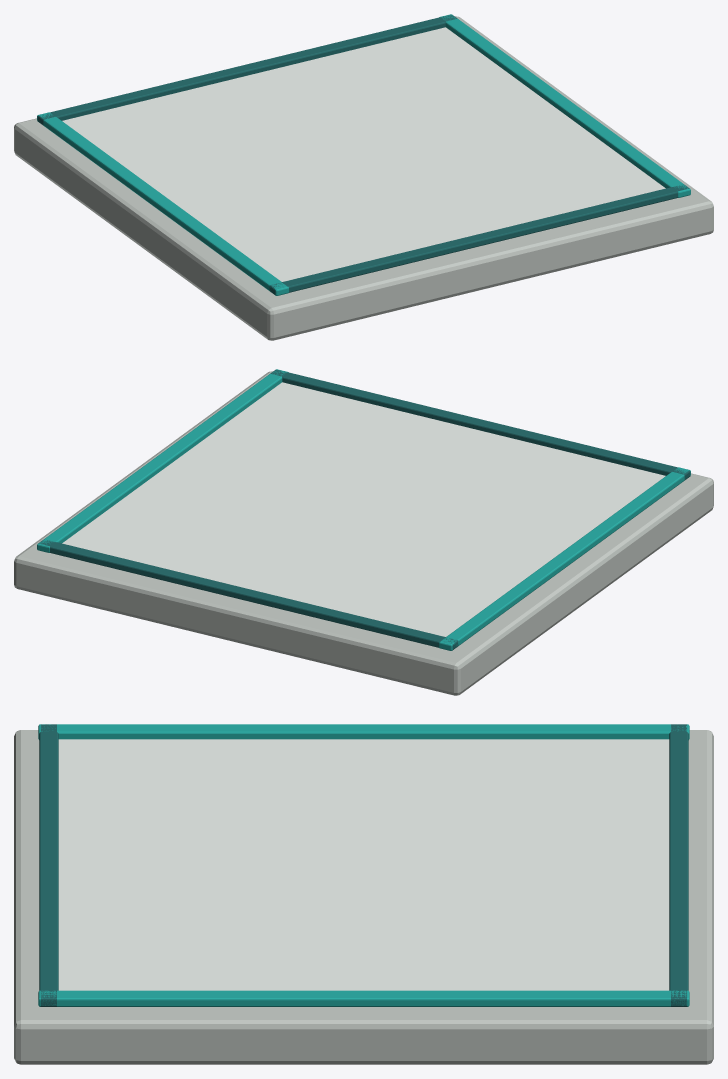
The model's file is MH01_Clinic_Floor_Module_2m.glb.
3 views of the same model, one above another, from view 1: azimuth 30°, elevation 25°; view 2: azimuth 150°, elevation 25°; view 3: azimuth 270°, elevation 25° (orthographic). The views are drawn at different scales.
Parts seen in each view (by area): view 1: Floor_Inset, Floor_Base, Dark_Edge_-0.9, Dark_Edge_0.9, Teal_Edge_-0.9, Teal_Edge_0.9; view 2: Floor_Inset, Floor_Base, Dark_Edge_0.9, Dark_Edge_-0.9, Teal_Edge_-0.9, Teal_Edge_0.9; view 3: Floor_Inset, Floor_Base, Teal_Edge_0.9, Teal_Edge_-0.9, Dark_Edge_-0.9, Dark_Edge_0.9.
Boxes of the visible parts, x1,y1,x2,y2 form: Floor_Inset: [62, 27, 665, 281]; Floor_Base: [14, 16, 713, 340]; Dark_Edge_-0.9: [269, 184, 689, 295]; Dark_Edge_0.9: [37, 14, 457, 125]; Teal_Edge_-0.9: [37, 112, 288, 295]; Teal_Edge_0.9: [439, 14, 690, 197]; Floor_Inset: [62, 382, 665, 636]; Floor_Base: [14, 371, 713, 695]; Dark_Edge_0.9: [38, 539, 458, 650]; Dark_Edge_-0.9: [270, 369, 690, 480]; Teal_Edge_-0.9: [439, 467, 690, 650]; Teal_Edge_0.9: [37, 369, 288, 552]; Floor_Inset: [58, 739, 669, 990]; Floor_Base: [14, 730, 713, 1064]; Teal_Edge_0.9: [38, 990, 689, 1006]; Teal_Edge_-0.9: [38, 724, 689, 739]; Dark_Edge_-0.9: [39, 724, 58, 1006]; Dark_Edge_0.9: [669, 724, 688, 1006].
Bounding box in the file's own units: 2 × 0.184 × 2.
